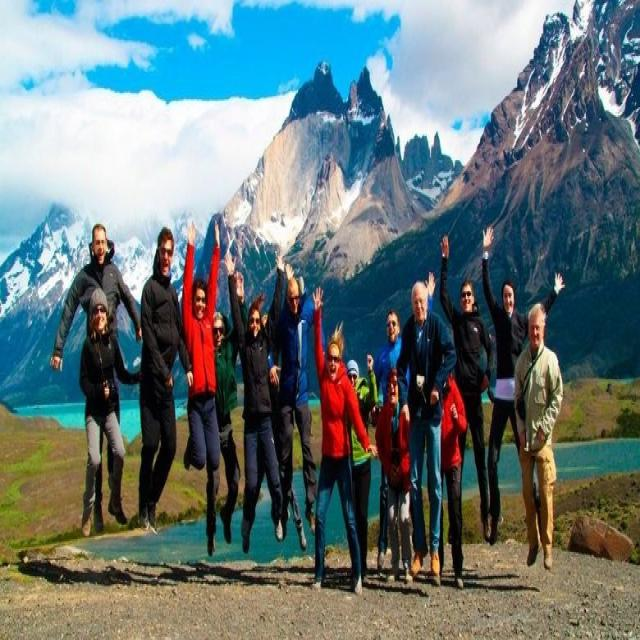body: (48, 218, 144, 538), (478, 221, 567, 550), (220, 245, 290, 560), (311, 285, 379, 598), (370, 267, 438, 573), (135, 218, 196, 540), (394, 280, 458, 584), (75, 282, 145, 538), (439, 234, 495, 548), (232, 257, 286, 548), (511, 298, 565, 572), (274, 270, 321, 544), (205, 266, 248, 560), (179, 218, 222, 480), (428, 368, 470, 589), (374, 367, 414, 588), (346, 352, 379, 586)
